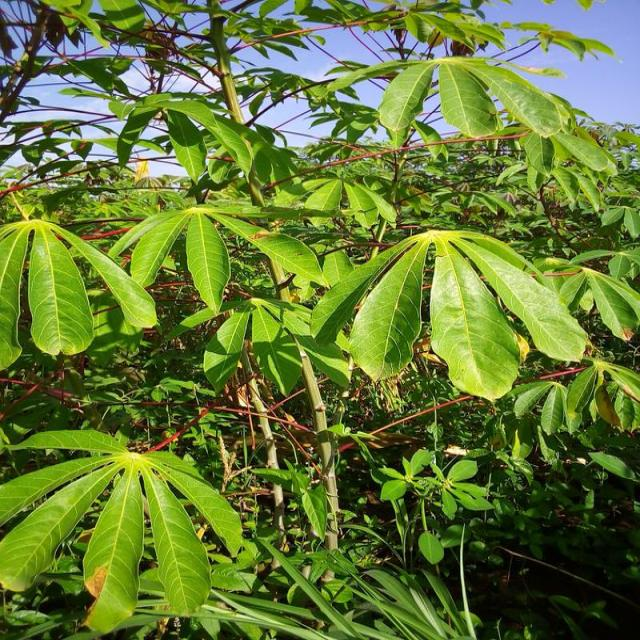cassava leaf: (2, 426, 243, 634), (313, 227, 590, 402), (429, 245, 522, 402), (350, 235, 431, 383), (28, 221, 95, 356), (186, 209, 231, 316)
